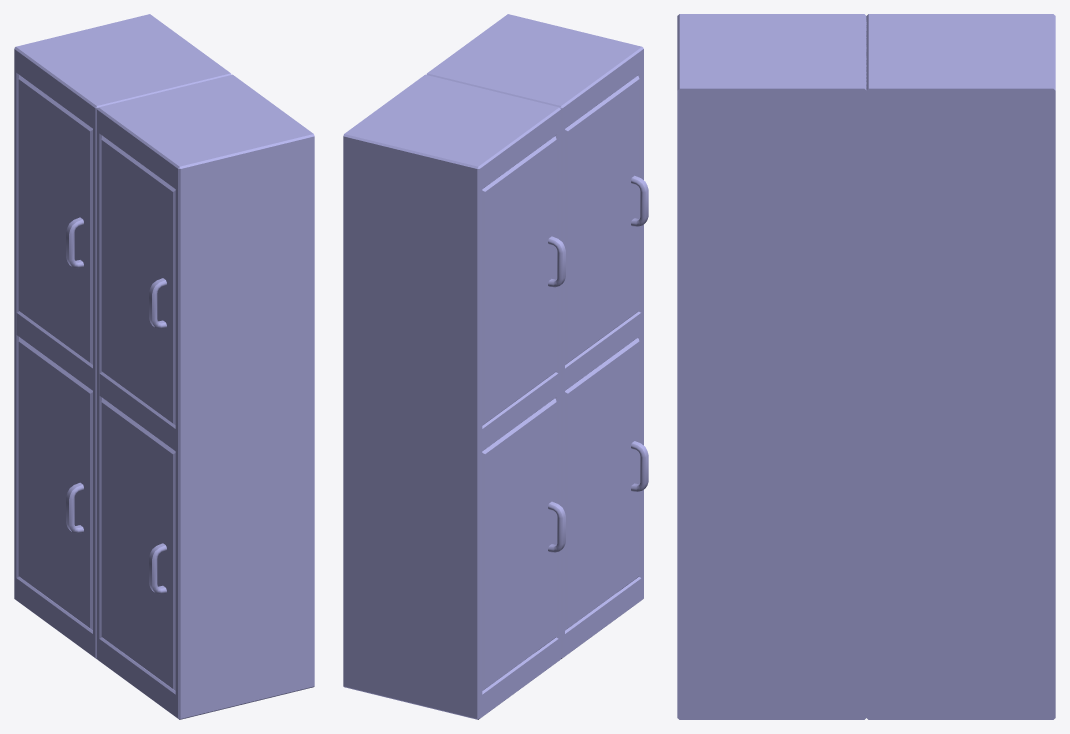
Rendered from Locker_Decorative.fbx.
The picture shows the model from 3 angles, left to right: view 1: azimuth 30°, elevation 25°; view 2: azimuth 150°, elevation 25°; view 3: azimuth 270°, elevation 25°; orthographic projection. The views are drawn at different scales.
Visible parts, largest first — view 1: Locker_Decorative; view 2: Locker_Decorative; view 3: Locker_Decorative.
Part boxes in pixels (x1,y1,x2,y2): Locker_Decorative: [14, 14, 314, 719]; Locker_Decorative: [343, 14, 648, 719]; Locker_Decorative: [677, 14, 1055, 719].
Bounding box in the file's own units: 71.58 × 250 × 136.
